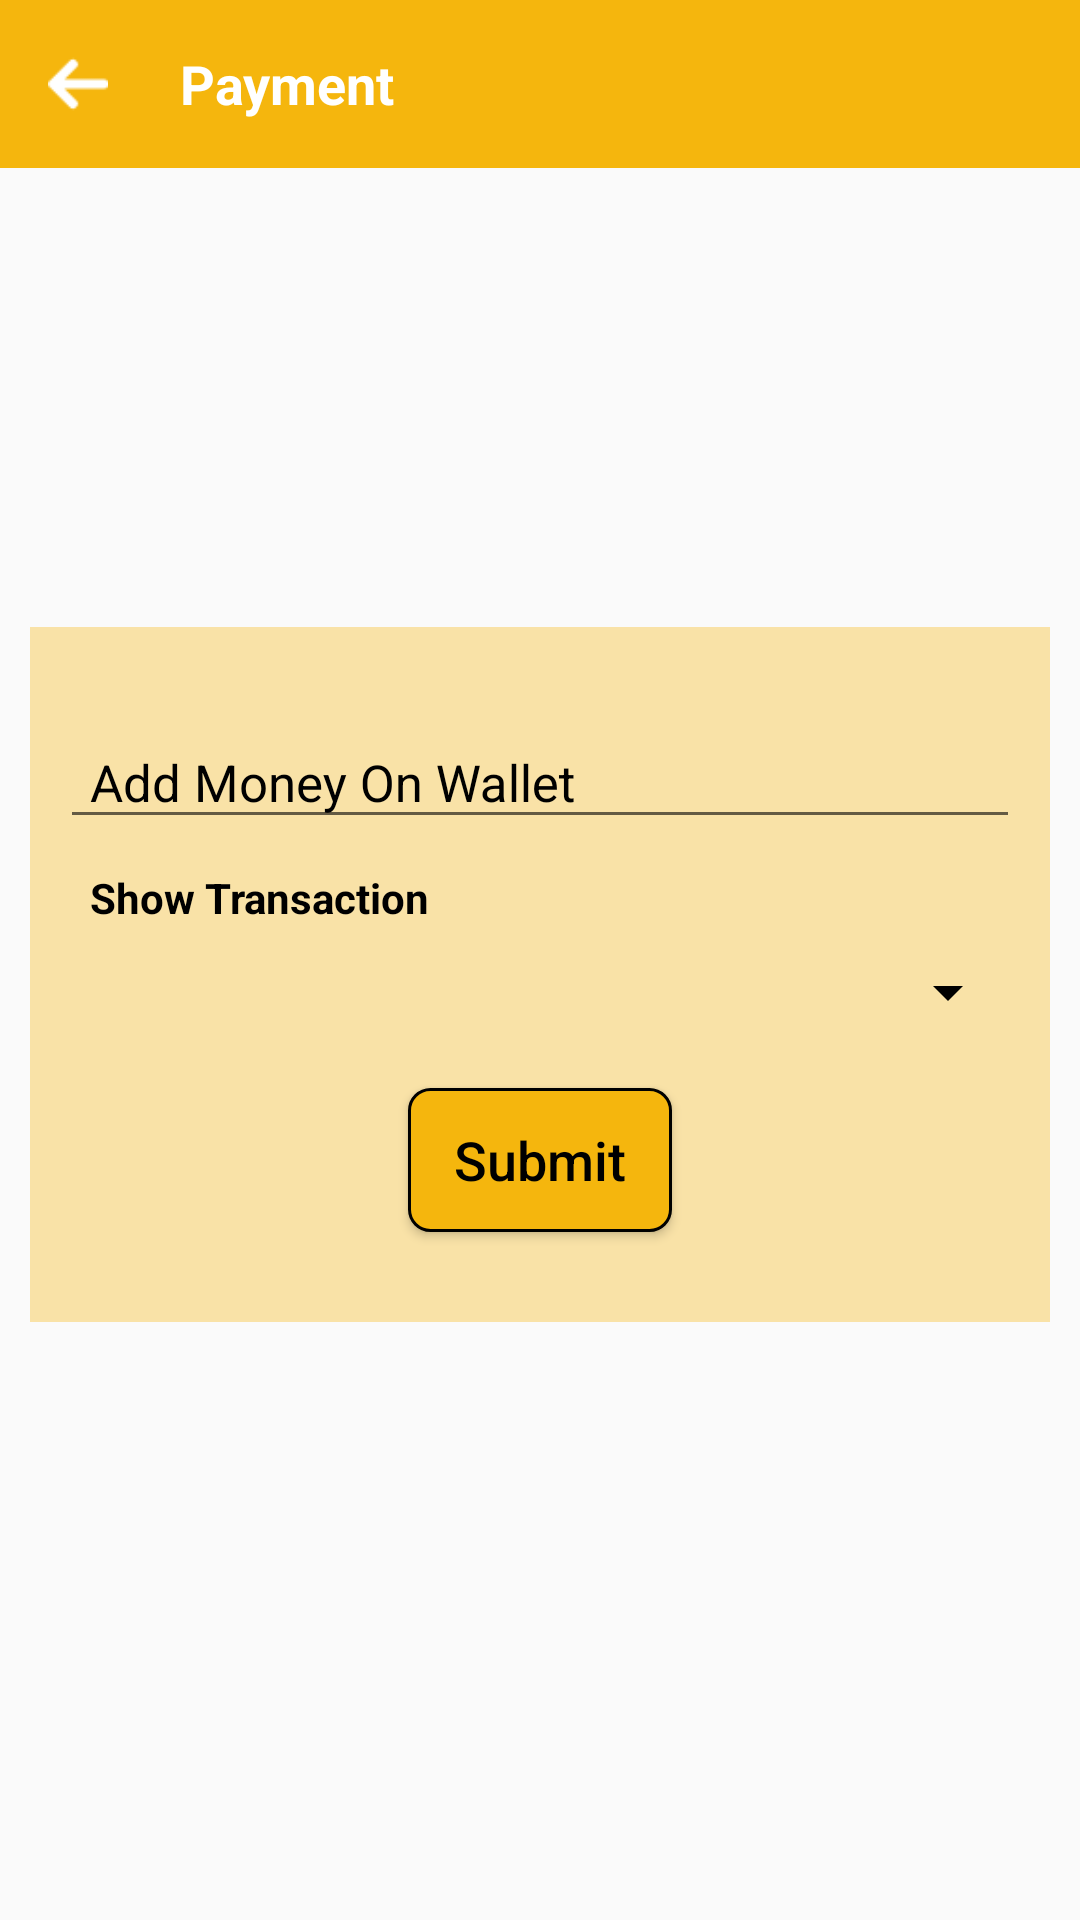

Screen size 1080px x 1920px. Icon name, then its box in pixels as (x1, y1, x2, y2):
back: (48, 58, 108, 110)
